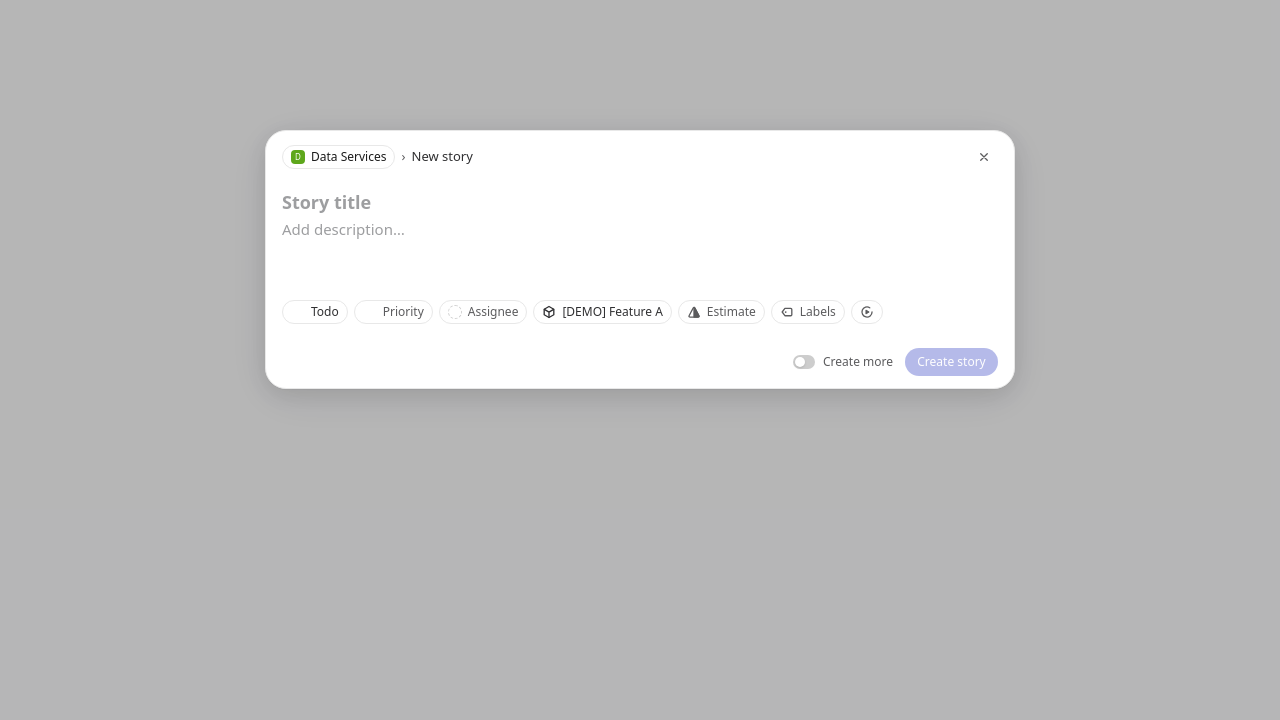
Scenario: typing two letters in the assignee list searches the whole workspace (D16)
Click the button with aria-label "Change assignee" at (483, 312), box x1=439 y1=300 x2=527 y2=324
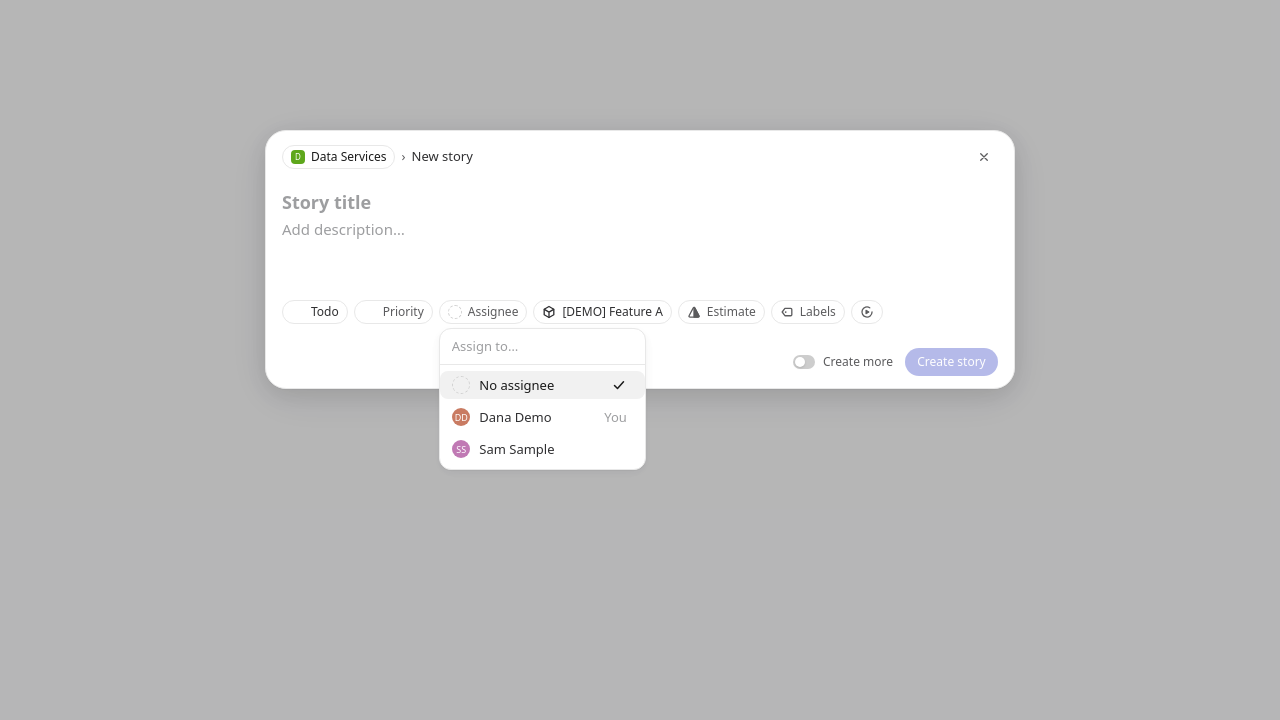
Type "p" into the field with placeholder "Assign to…" at (542, 347), box x1=452 y1=337 x2=633 y2=356
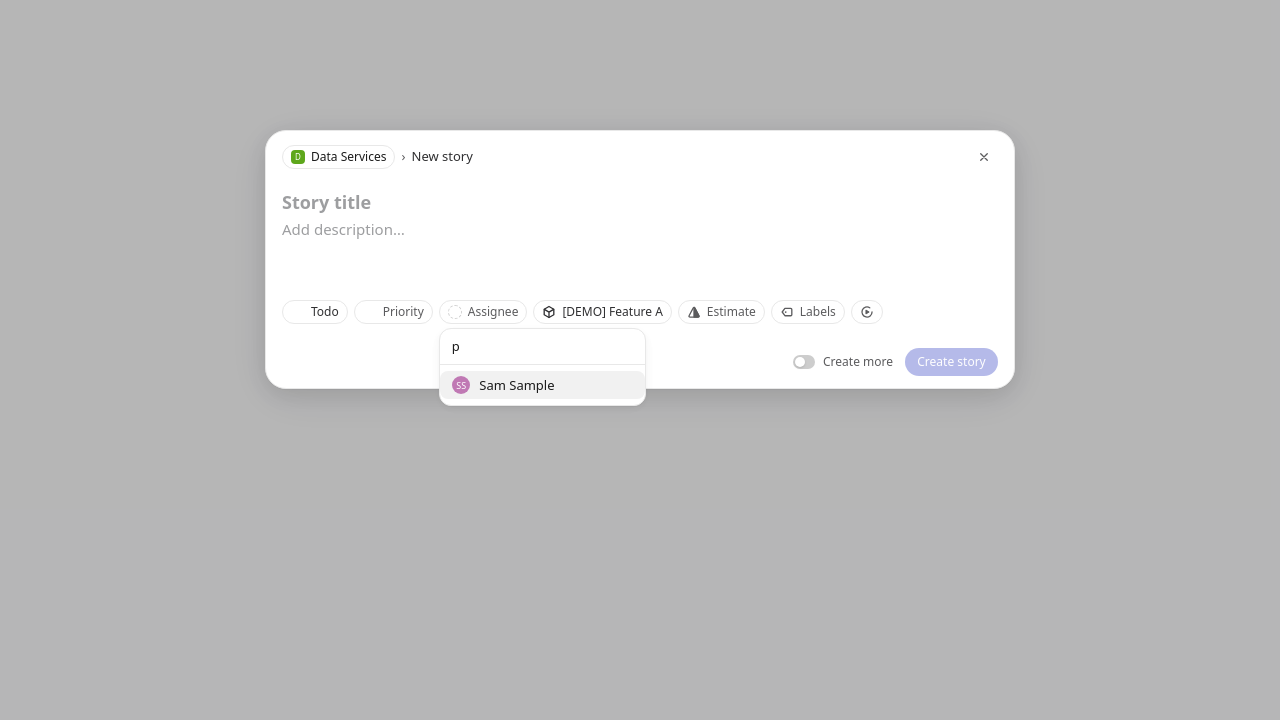
Replace the text in the field with placeholder "Assign to…" with "pat" at (542, 347), box x1=452 y1=337 x2=633 y2=356
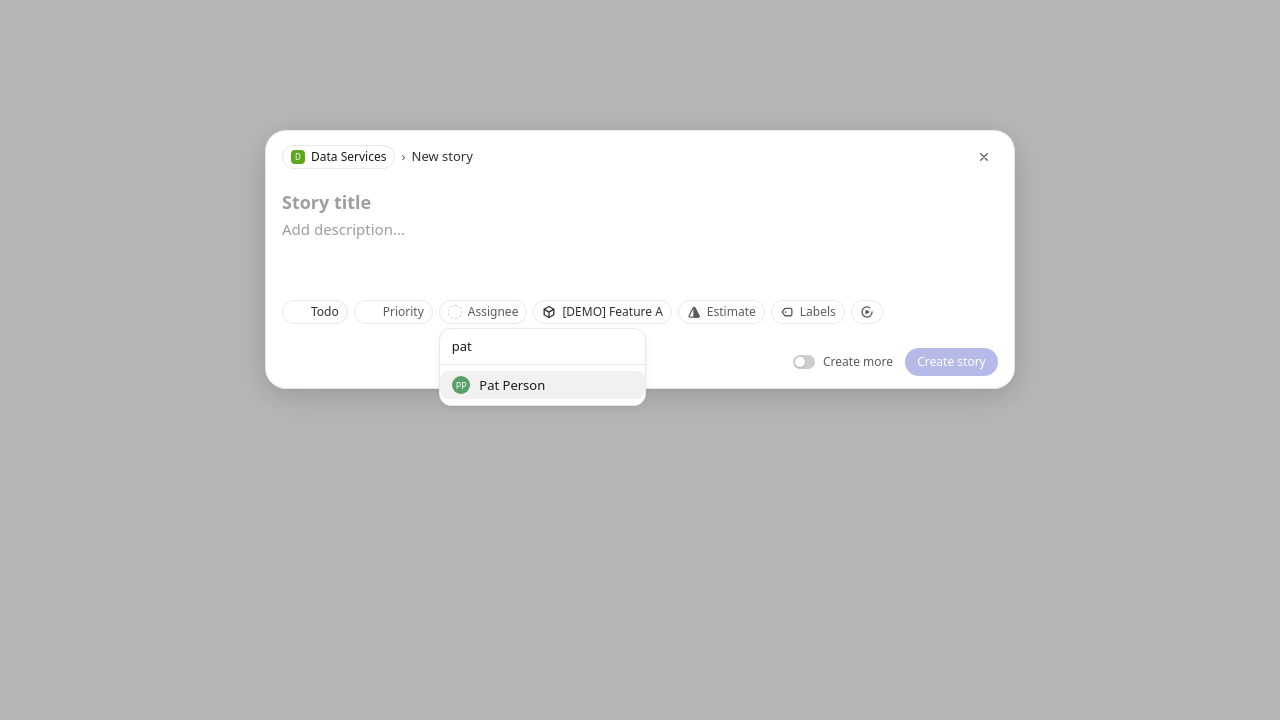
Click the menu item "PP Pat Person" at (499, 385), box x1=452 y1=376 x2=545 y2=394
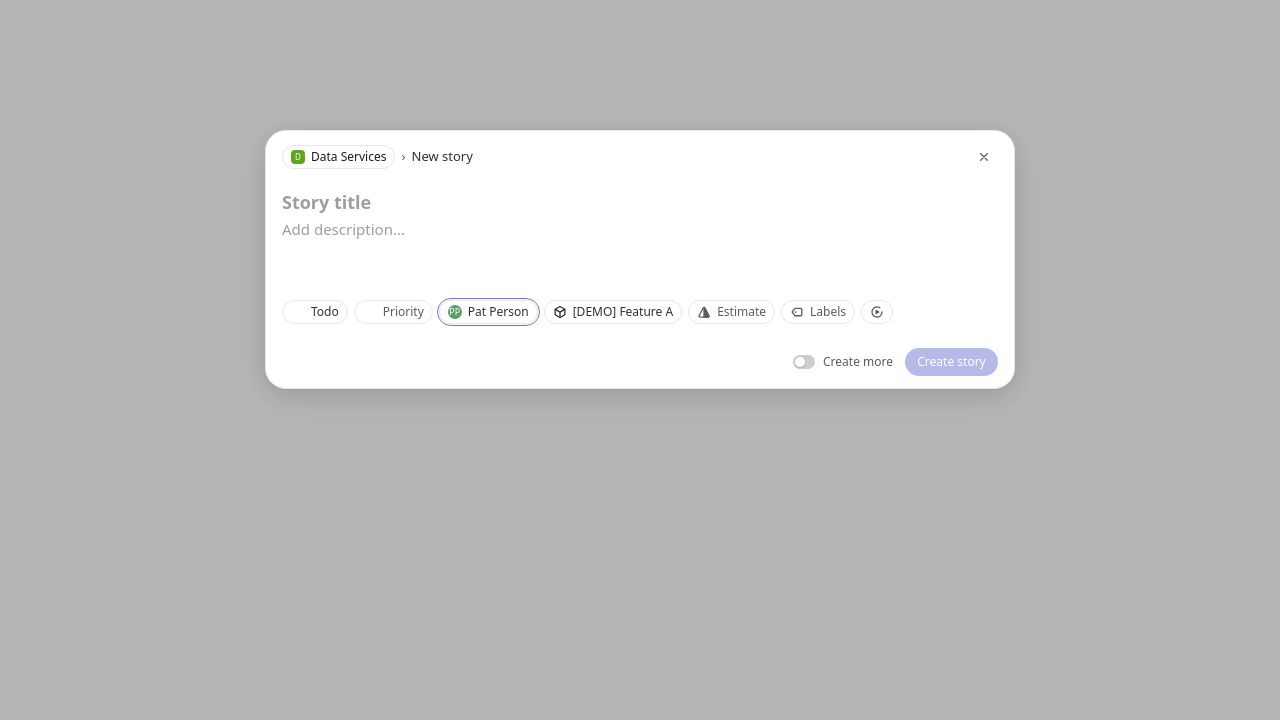
Expected: the button with aria-label "Change assignee" shows "Pat Person", x1=439 y1=300 x2=538 y2=324
